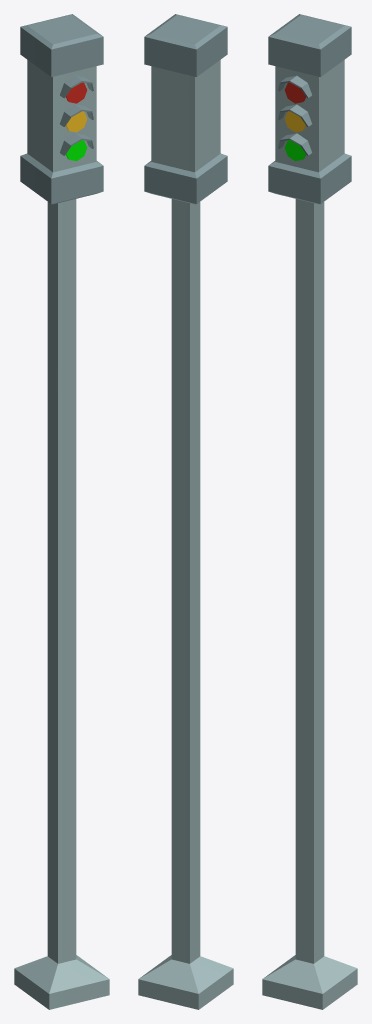
File: trafficLights.fbx
3 views of the same model, side by side, from view 1: azimuth 30°, elevation 25°; view 2: azimuth 150°, elevation 25°; view 3: azimuth 330°, elevation 25° (orthographic).
Parts seen in each view (by area): view 1: Cube, Cylinder, Cylinder.001; view 2: Cube; view 3: Cube, Cylinder, Cylinder.001.
Boxes of the visible parts, x1,y1,x2,y2 form: Cube: (14,14,109,1009); Cylinder: (60,75,93,155); Cylinder.001: (66,82,87,161); Cube: (138,14,233,1009); Cube: (262,14,357,1009); Cylinder: (278,75,311,155); Cylinder.001: (284,82,305,161).
Size of the model in its own units: 0.198 by 3 by 0.2132.
Materials: 1 (1 with a texture image).
